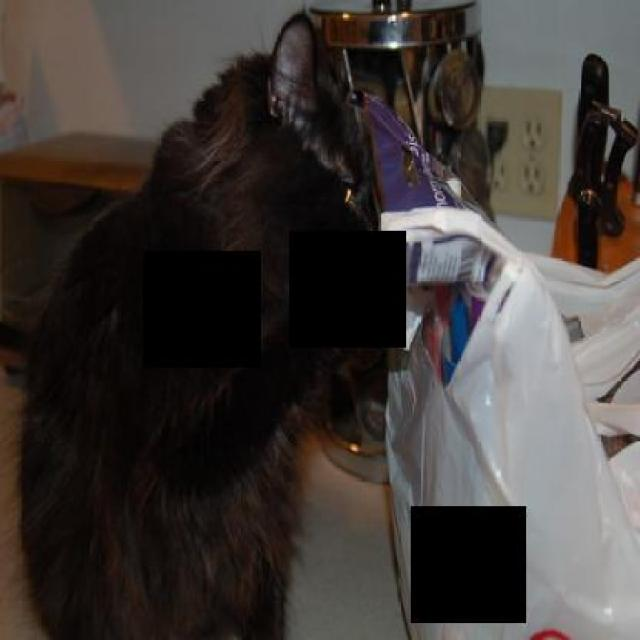plastic bag: (371, 92, 638, 638)
